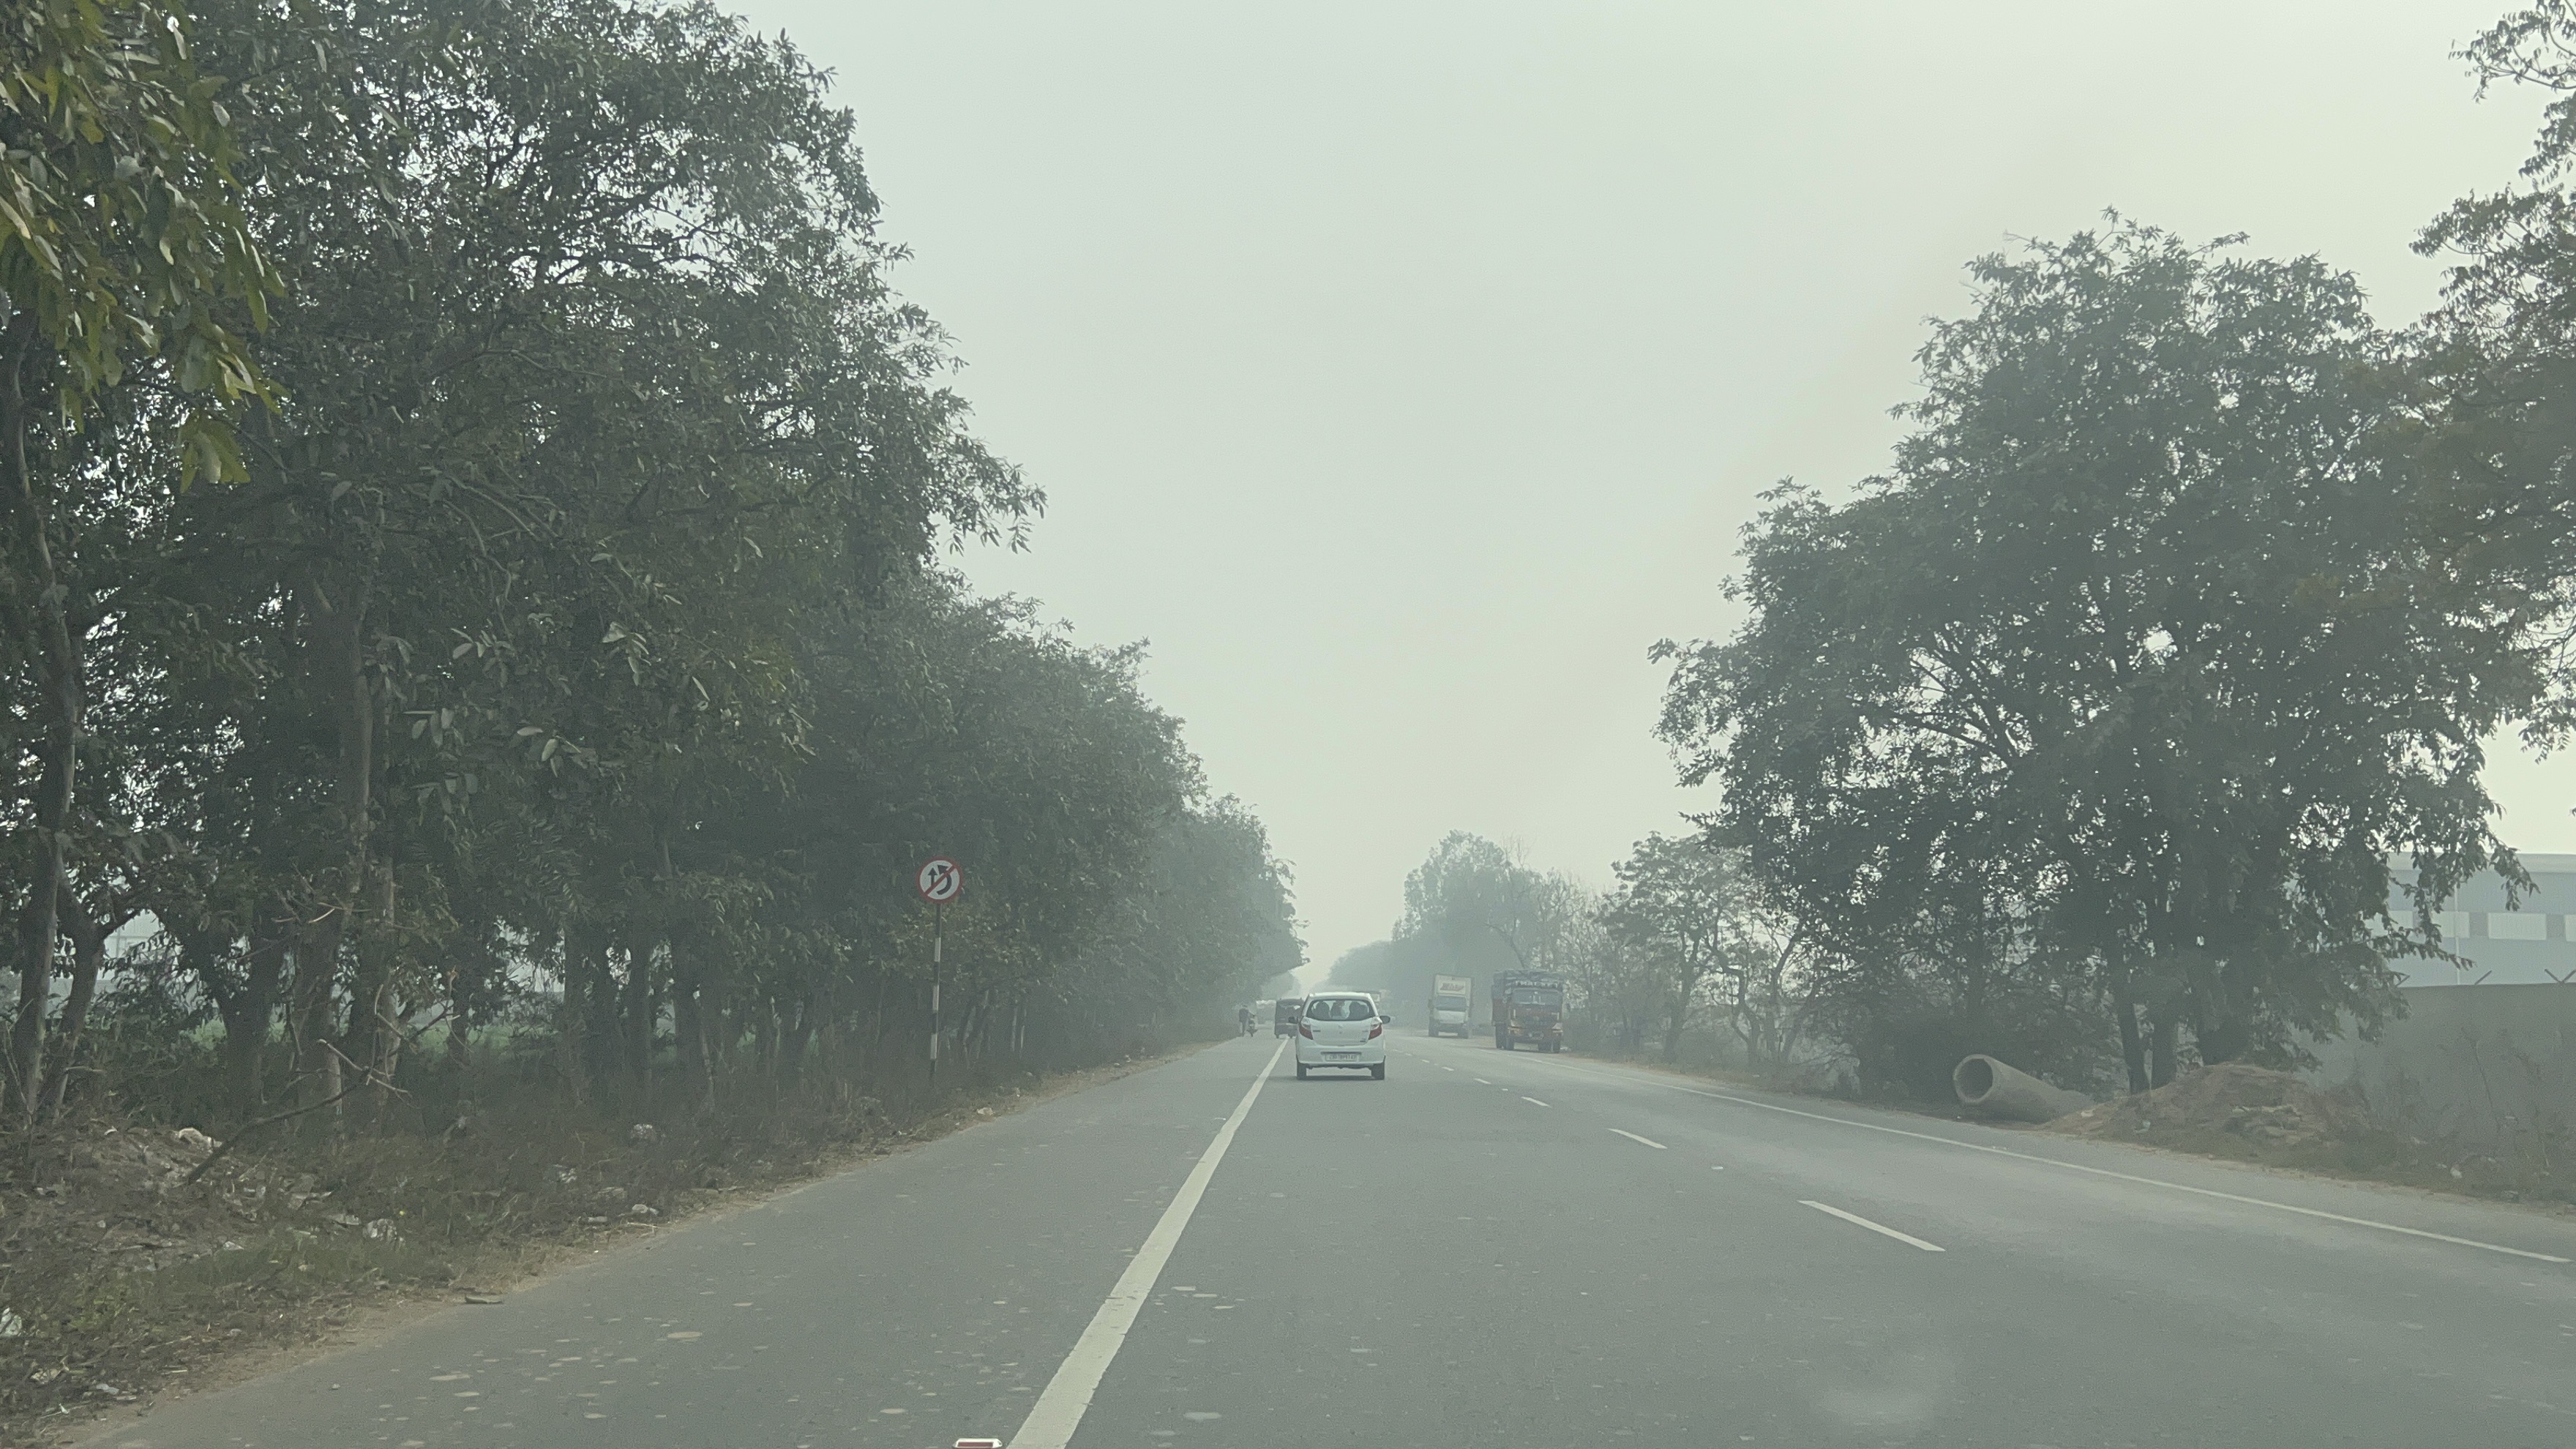Mandatory: (901, 846, 982, 913)
